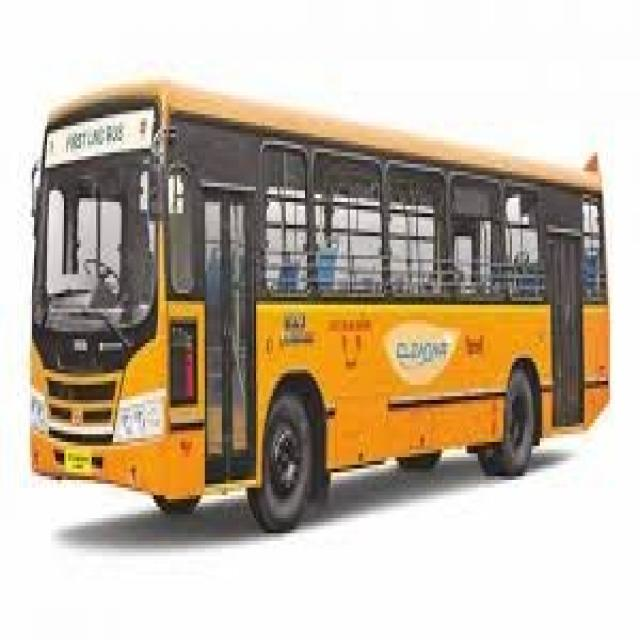bus: (20, 64, 637, 542)
